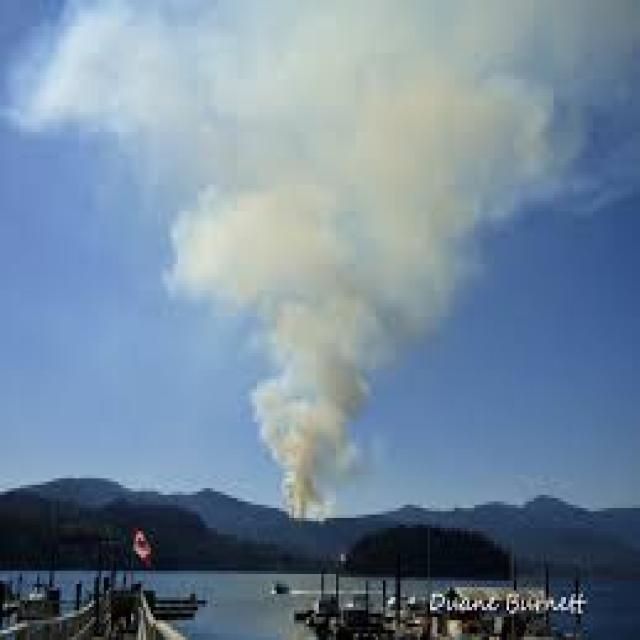Smoke: (169, 0, 619, 280), (24, 11, 154, 196), (268, 290, 372, 507)
